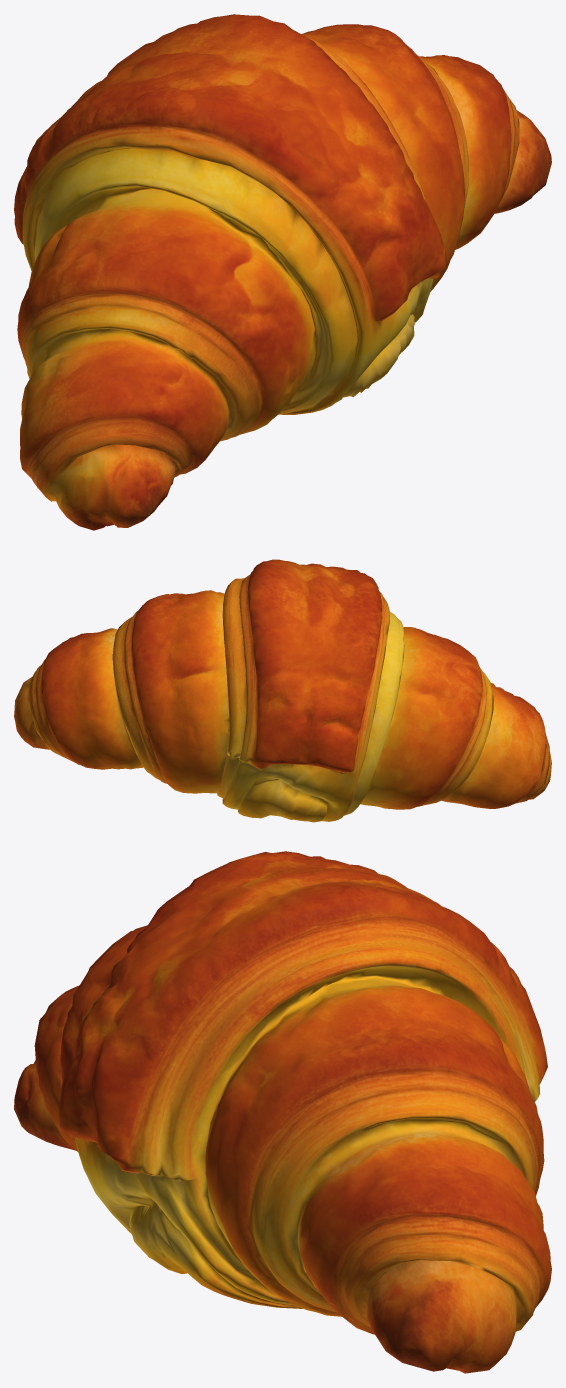
The model's file is croissant 3d model.glb.
3 views of the same model, one above another, from view 1: azimuth 30°, elevation 25°; view 2: azimuth 150°, elevation 25°; view 3: azimuth 270°, elevation 25° (orthographic). The views are drawn at different scales.
Parts seen in each view (by area): view 1: tripo_node_37040259-db0f-434c-9c47-131568d46279; view 2: tripo_node_37040259-db0f-434c-9c47-131568d46279; view 3: tripo_node_37040259-db0f-434c-9c47-131568d46279.
Boxes of the visible parts, left/top/right/bottom form: tripo_node_37040259-db0f-434c-9c47-131568d46279: left=14, top=14, right=551, bottom=530; tripo_node_37040259-db0f-434c-9c47-131568d46279: left=14, top=559, right=551, bottom=822; tripo_node_37040259-db0f-434c-9c47-131568d46279: left=14, top=851, right=551, bottom=1373.
Bounding box in the file's own units: 0.9809 × 0.5112 × 0.6221.
Materials: 1 (1 with a texture image).
